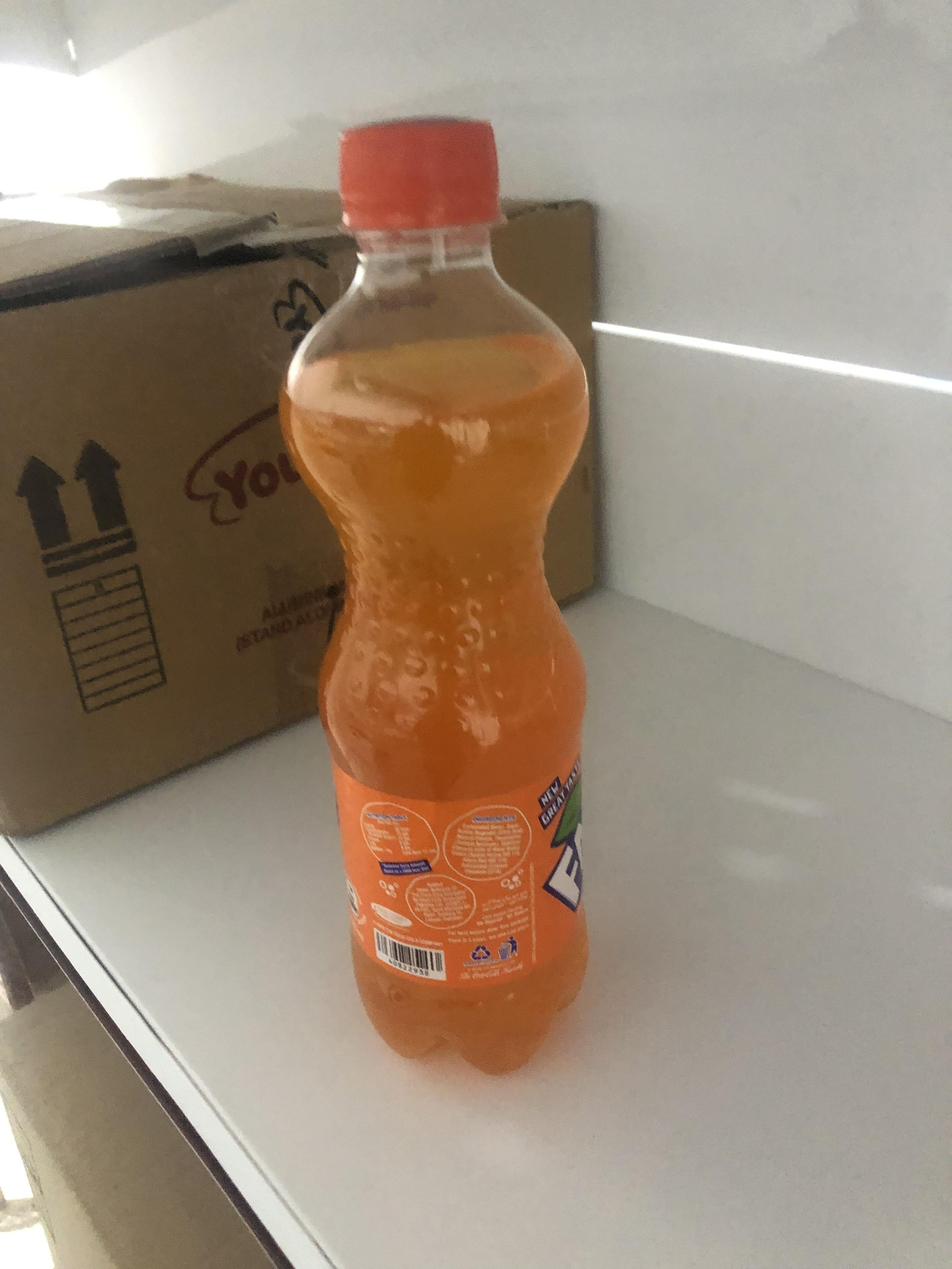bottle-plastic: (275, 104, 603, 1080)
